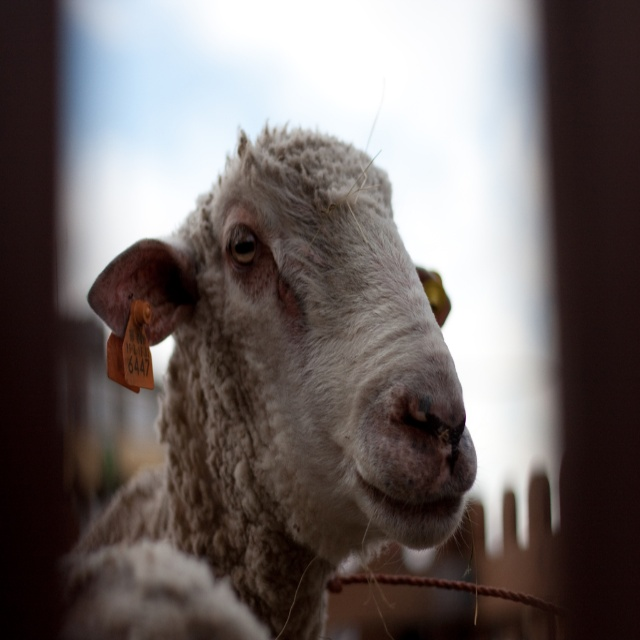Goat: (54, 115, 487, 603)
